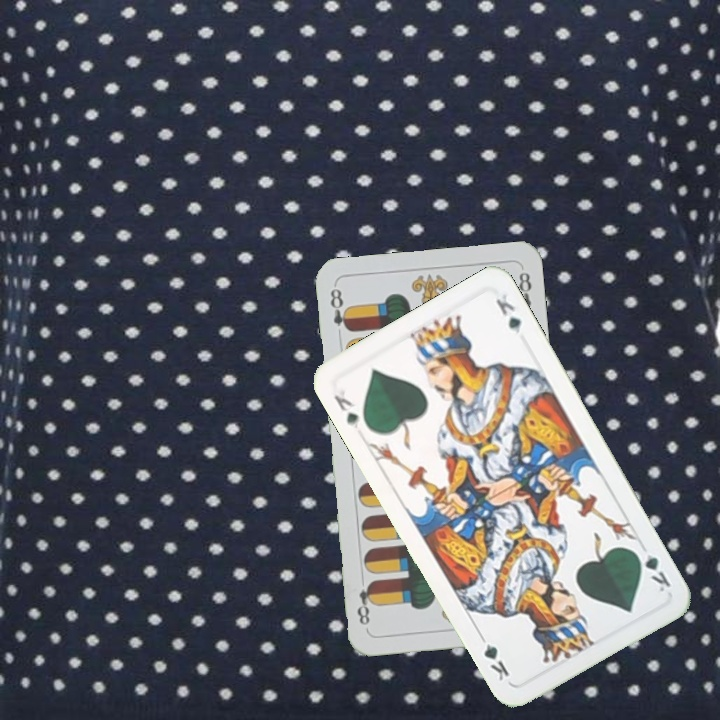E8: (326, 284, 354, 335)
GK: (630, 546, 673, 594), (330, 385, 363, 432)
